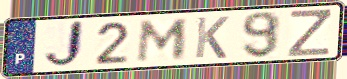2: (95, 20, 132, 66)
9: (240, 10, 284, 61)
J: (41, 19, 87, 71)
K: (193, 15, 231, 60)
M: (134, 18, 192, 64)
Z: (286, 8, 333, 58)
